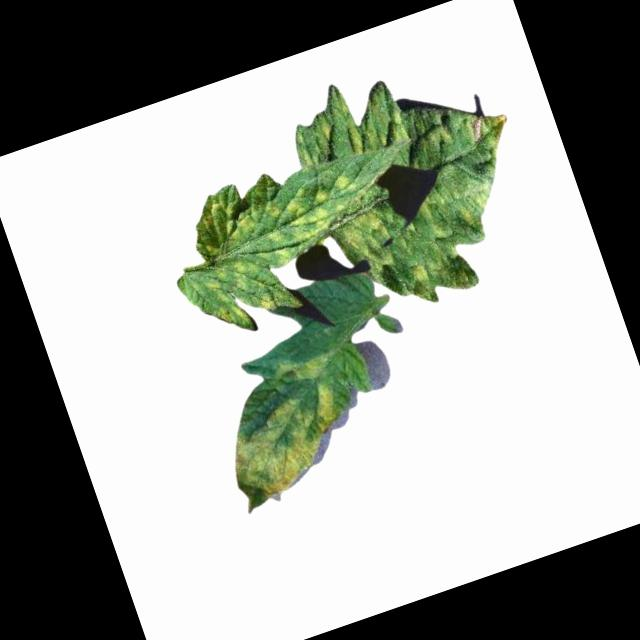Leaf_Mold: (280, 36, 555, 327), (151, 145, 391, 351), (203, 346, 372, 516)
